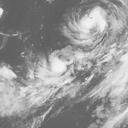cyclone: (38, 50, 82, 88), (69, 5, 109, 46)
